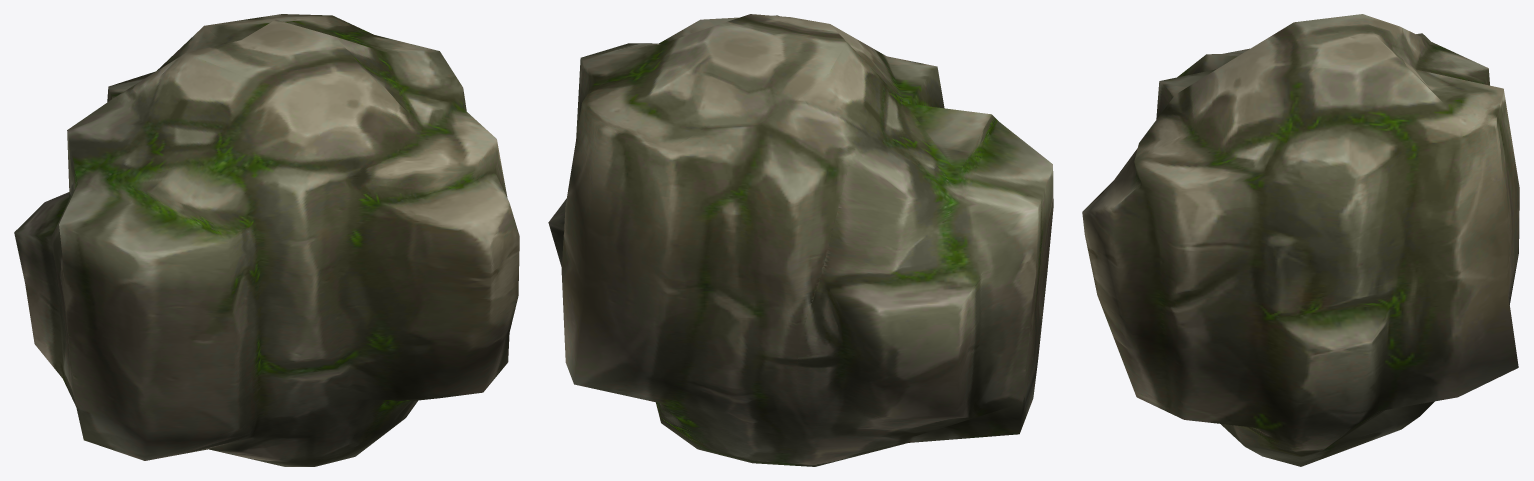
File: RockFormation_4_2 (73).fbx
3 renders of one model, left to right at view 1: azimuth 30°, elevation 25°; view 2: azimuth 150°, elevation 25°; view 3: azimuth 270°, elevation 25°, orthographic. The views are drawn at different scales.
Parts seen in each view (by area): view 1: RockFormation_4_2 (73); view 2: RockFormation_4_2 (73); view 3: RockFormation_4_2 (73).
Part boxes in pixels (x1=…): RockFormation_4_2 (73): x1=14, y1=14, x2=519, y2=466; RockFormation_4_2 (73): x1=548, y1=14, x2=1053, y2=466; RockFormation_4_2 (73): x1=1082, y1=14, x2=1519, y2=466.
Size of the model in its own units: 566 by 489 by 487.
Materials: 1 (1 with a texture image).
